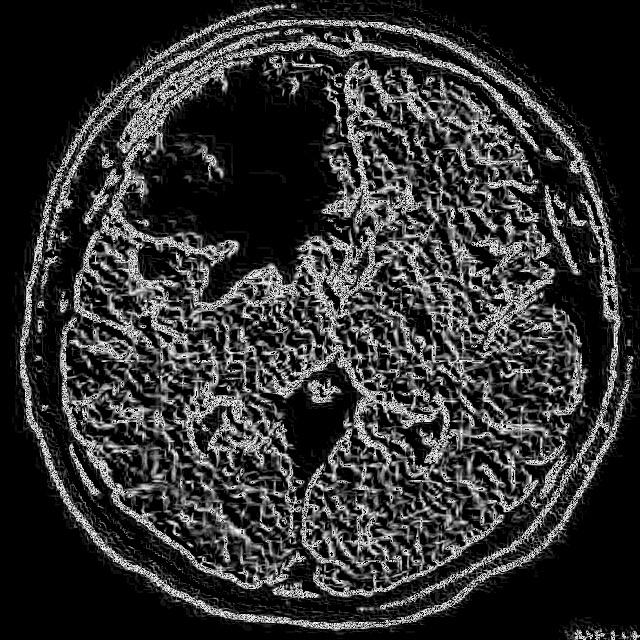Brain-Tumor: (108, 46, 386, 316)
